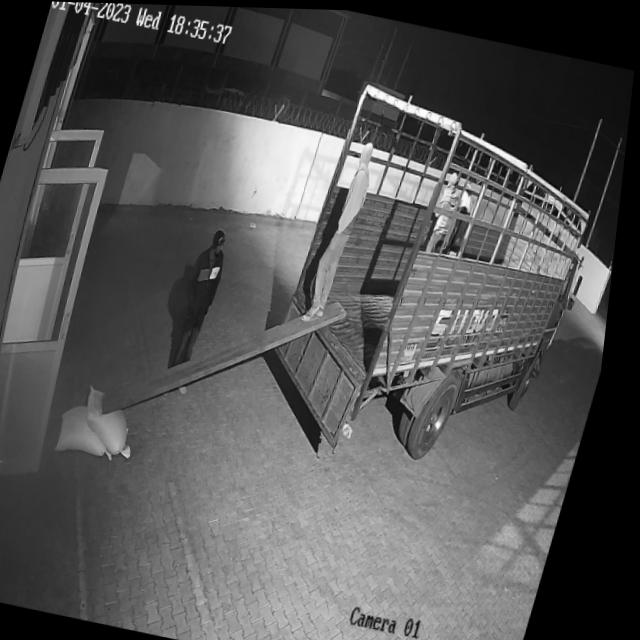sack: (80, 383, 157, 458), (62, 400, 133, 459)
